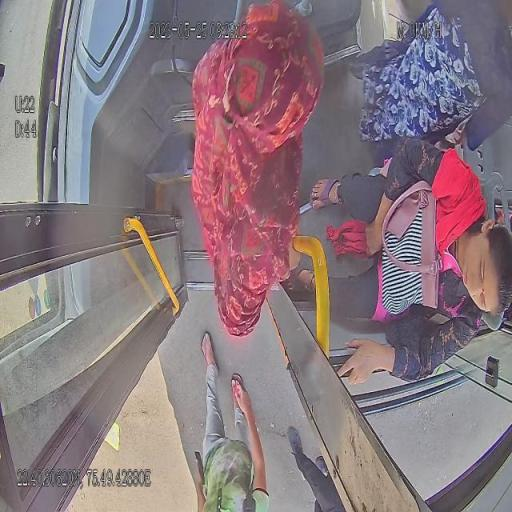persona: (301, 137, 511, 387), (190, 1, 326, 338), (194, 331, 270, 511)
